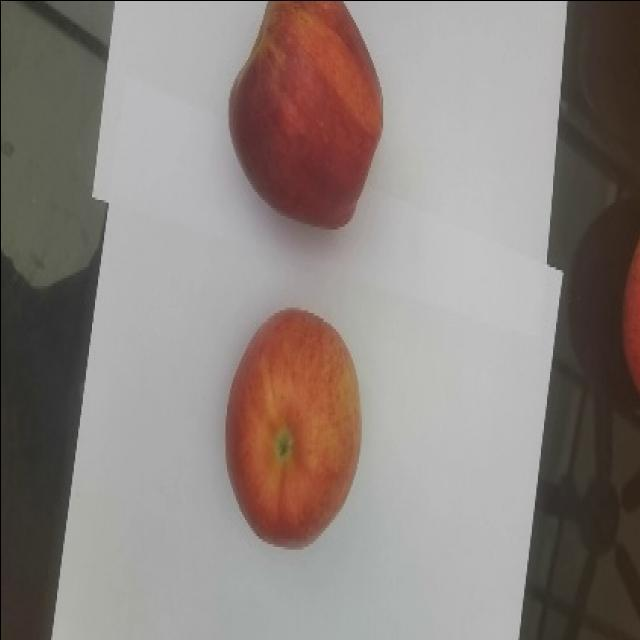Apple: (227, 0, 390, 240), (223, 302, 367, 554)
